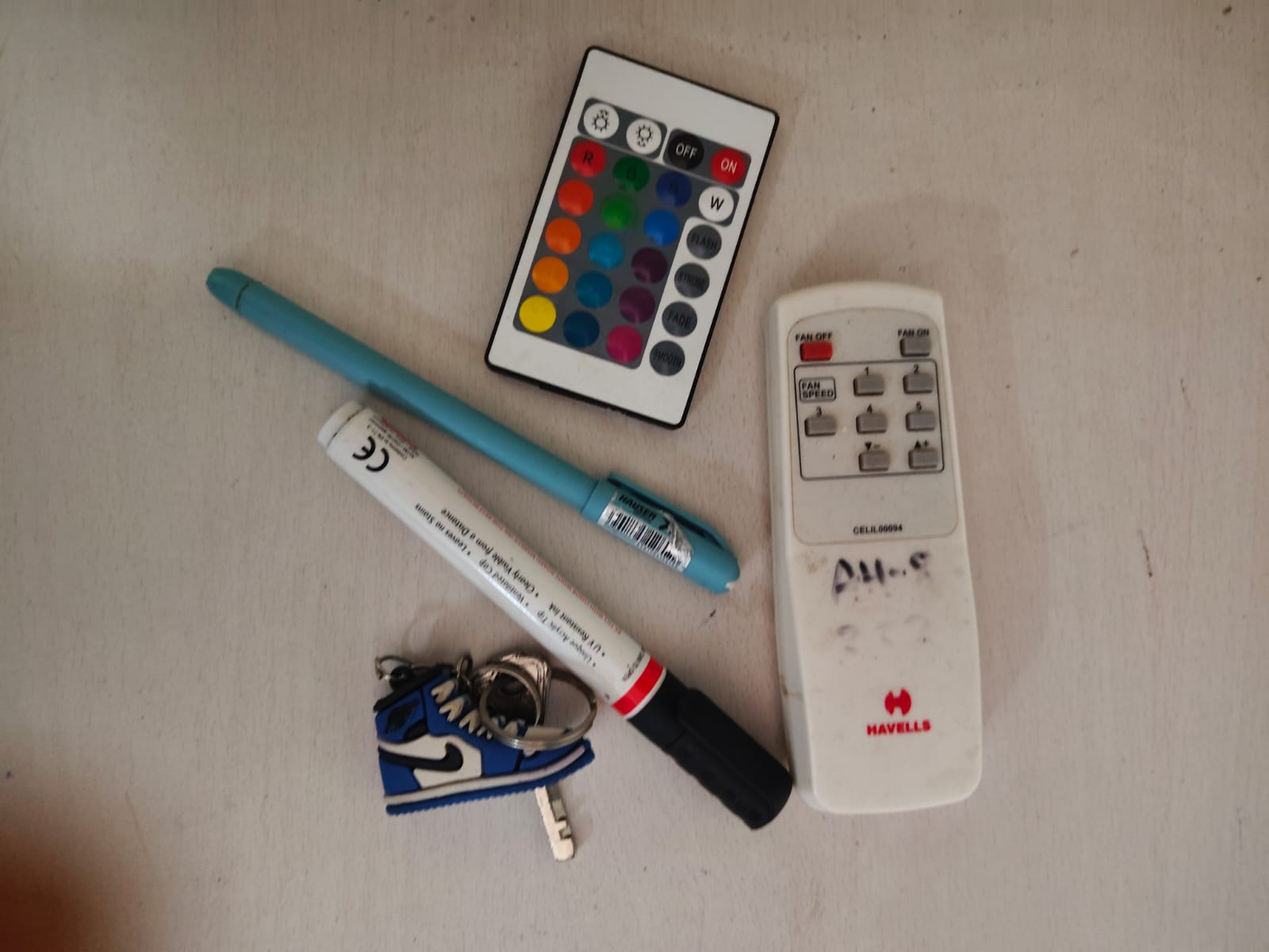case: (293, 373, 813, 830)
pen: (195, 243, 755, 597)
